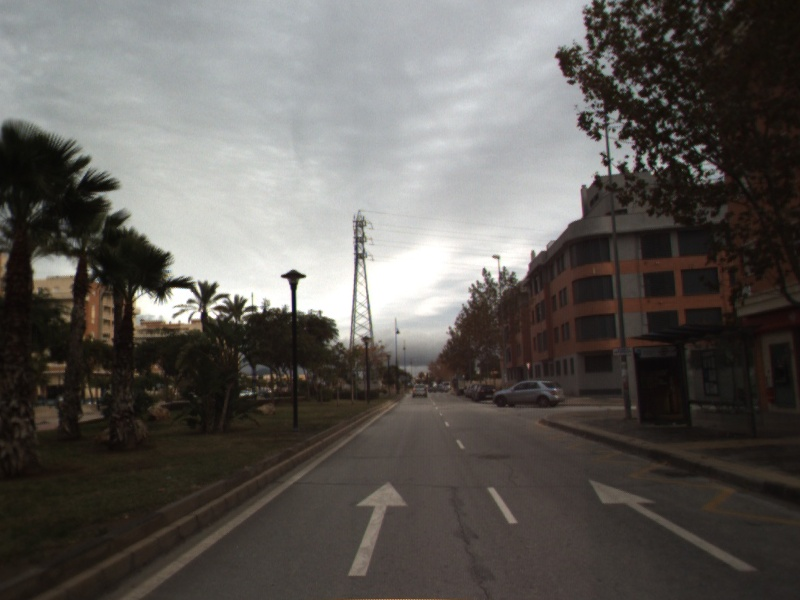STRAIGHT: (588, 478, 760, 573), (346, 479, 410, 578)
